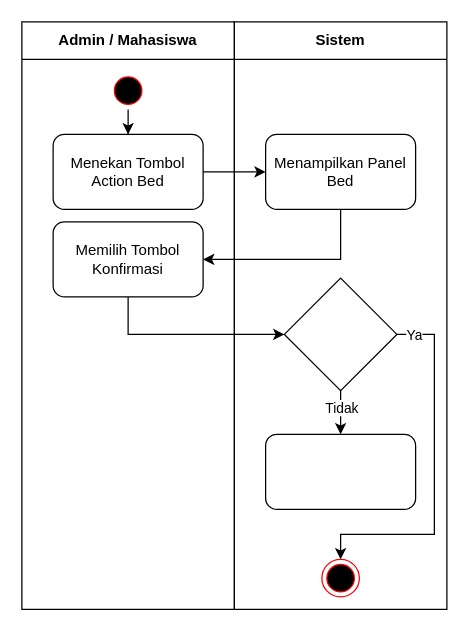
Some shapes in this 469 by 631 pixel diagram are drawn without their labels. Here are the shapes that lost their labels. From the top down, the centre of each, then its label:
At (340,334): "Menekan Tombol Sleep ?".
At (340,471): "Menutup Panel Bed".
